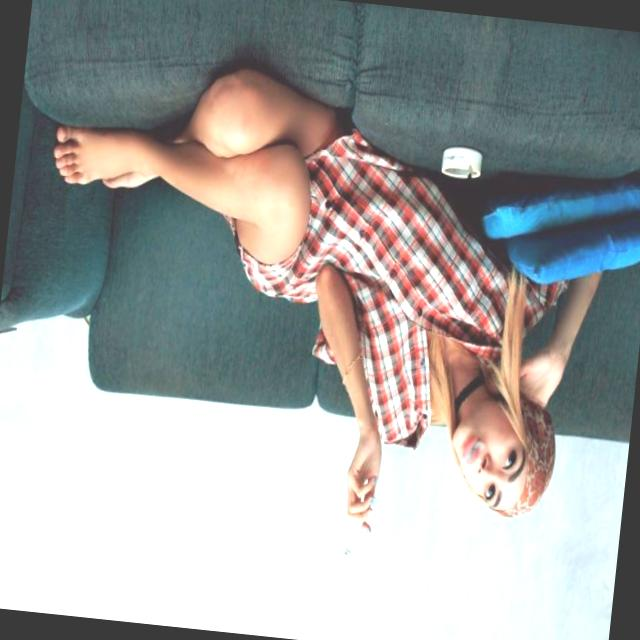smoke: (342, 521, 363, 558)
